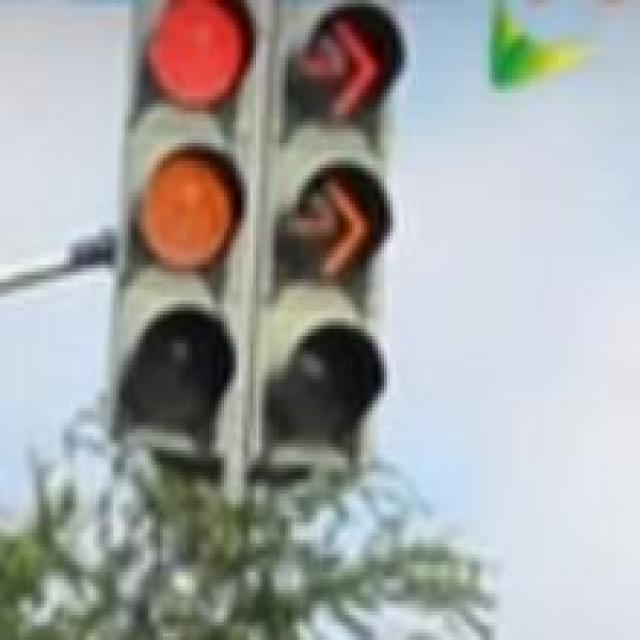yellow_light: (111, 4, 265, 480)
